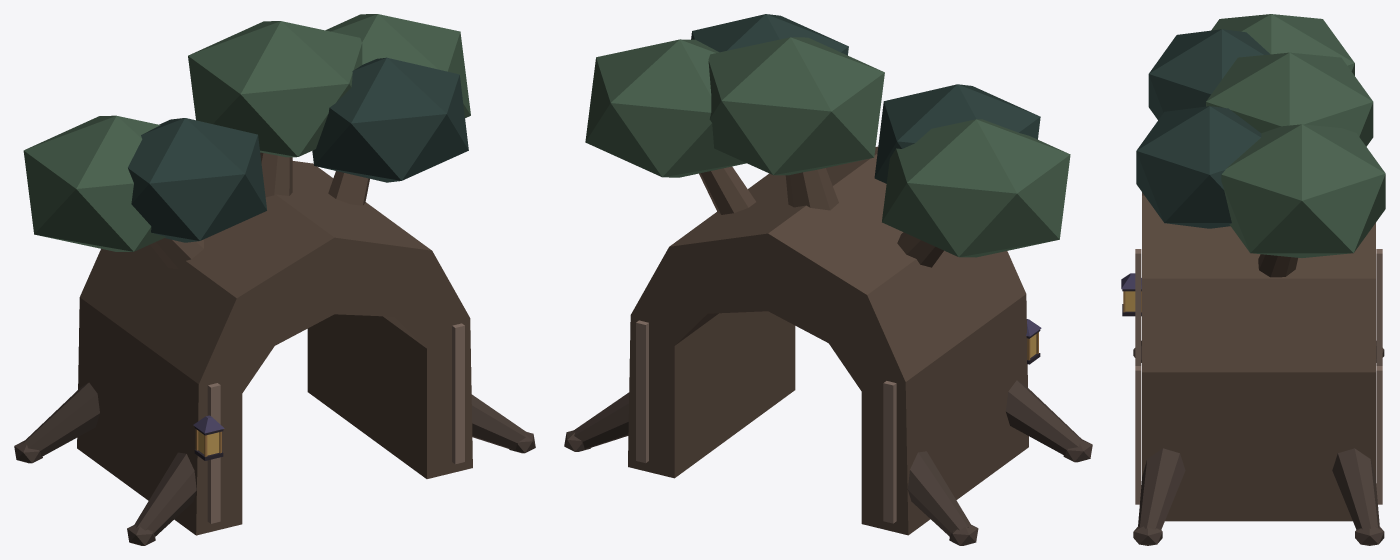
File: HauntedWoods_HollowOakPassage_Standard.glb
3 views of the same model, side by side, from view 1: azimuth 30°, elevation 25°; view 2: azimuth 150°, elevation 25°; view 3: azimuth 270°, elevation 25° (orthographic). The views are drawn at different scales.
Parts seen in each view (by area): view 1: HauntedWoods_HollowOakPassage_Standard; view 2: HauntedWoods_HollowOakPassage_Standard; view 3: HauntedWoods_HollowOakPassage_Standard.
Part boxes in pixels (left/top/right/bottom): HauntedWoods_HollowOakPassage_Standard: left=14, top=14, right=535, bottom=545; HauntedWoods_HollowOakPassage_Standard: left=564, top=14, right=1092, bottom=545; HauntedWoods_HollowOakPassage_Standard: left=1121, top=14, right=1385, bottom=545.
Size of the model in its own units: 8.14 by 7.4 by 4.3.
